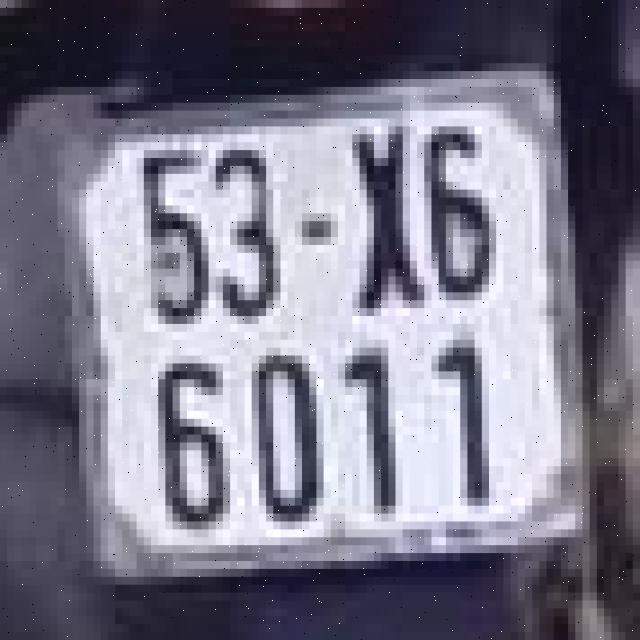0: (244, 344, 331, 541)
1: (352, 328, 417, 533), (449, 340, 522, 521)
3: (205, 138, 291, 328)
5: (133, 138, 212, 328)
6: (151, 340, 237, 521), (417, 111, 496, 308)
X: (345, 123, 432, 312)
